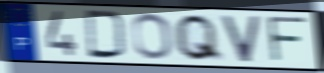4: (45, 10, 78, 58)
D: (84, 8, 129, 60)
F: (265, 15, 309, 65)
O: (130, 11, 175, 61)
Q: (172, 12, 225, 63)
V: (219, 15, 263, 65)
